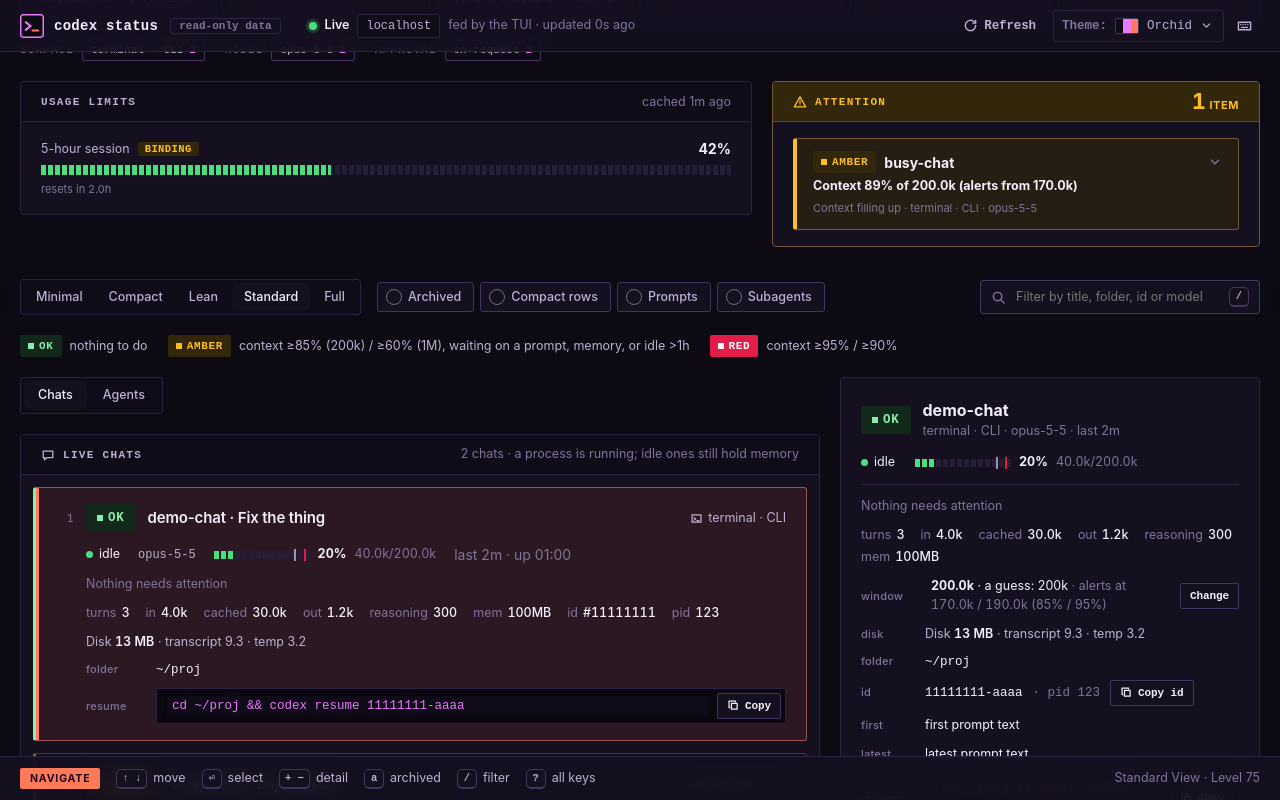
Test case: context window control (per chat) › picking a size re-suggests both rows and shows the summary, zone bar and command live
(page scrolled)
Click the button with aria-label "Change the context window" at [1210, 596], box left=1180, top=583, right=1239, bottom=609
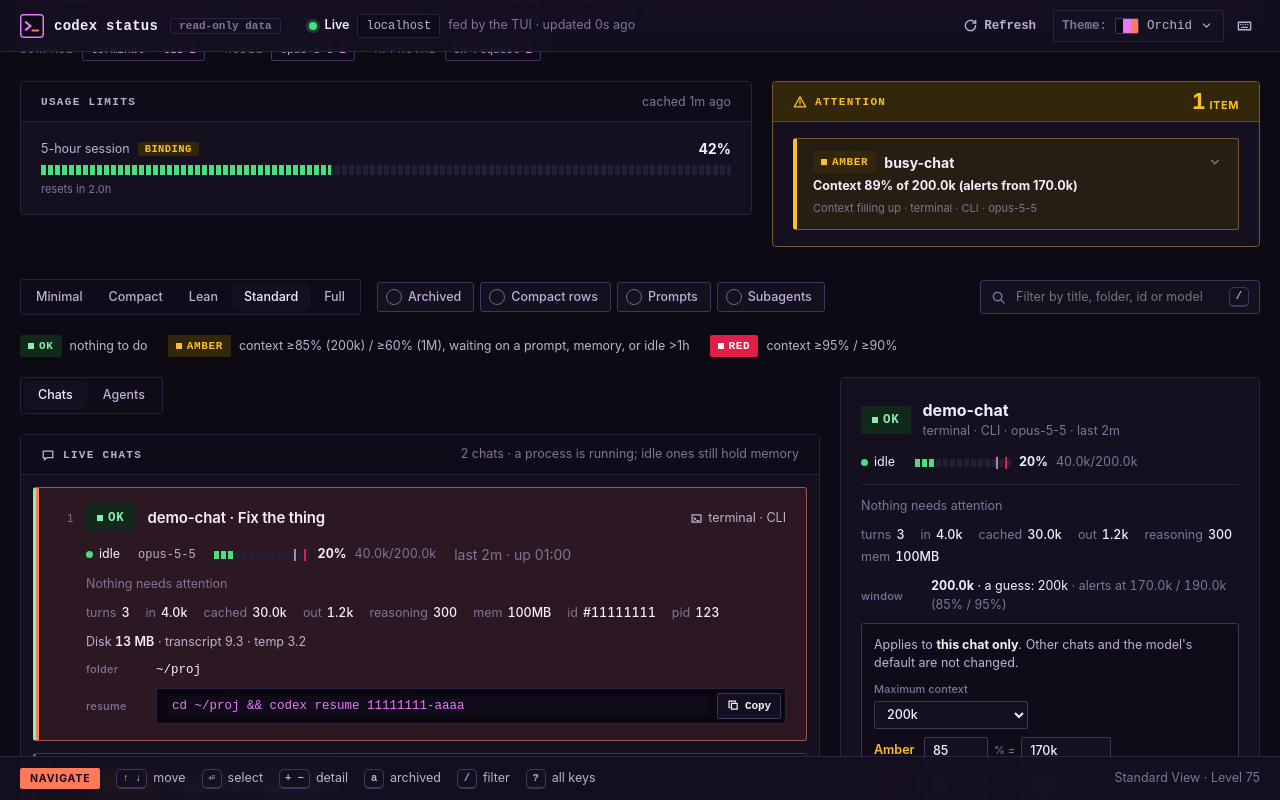
Select "600k" in the dropdown labelled "Maximum context" at [951, 715], box left=874, top=701, right=1028, bottom=729
(page scrolled)
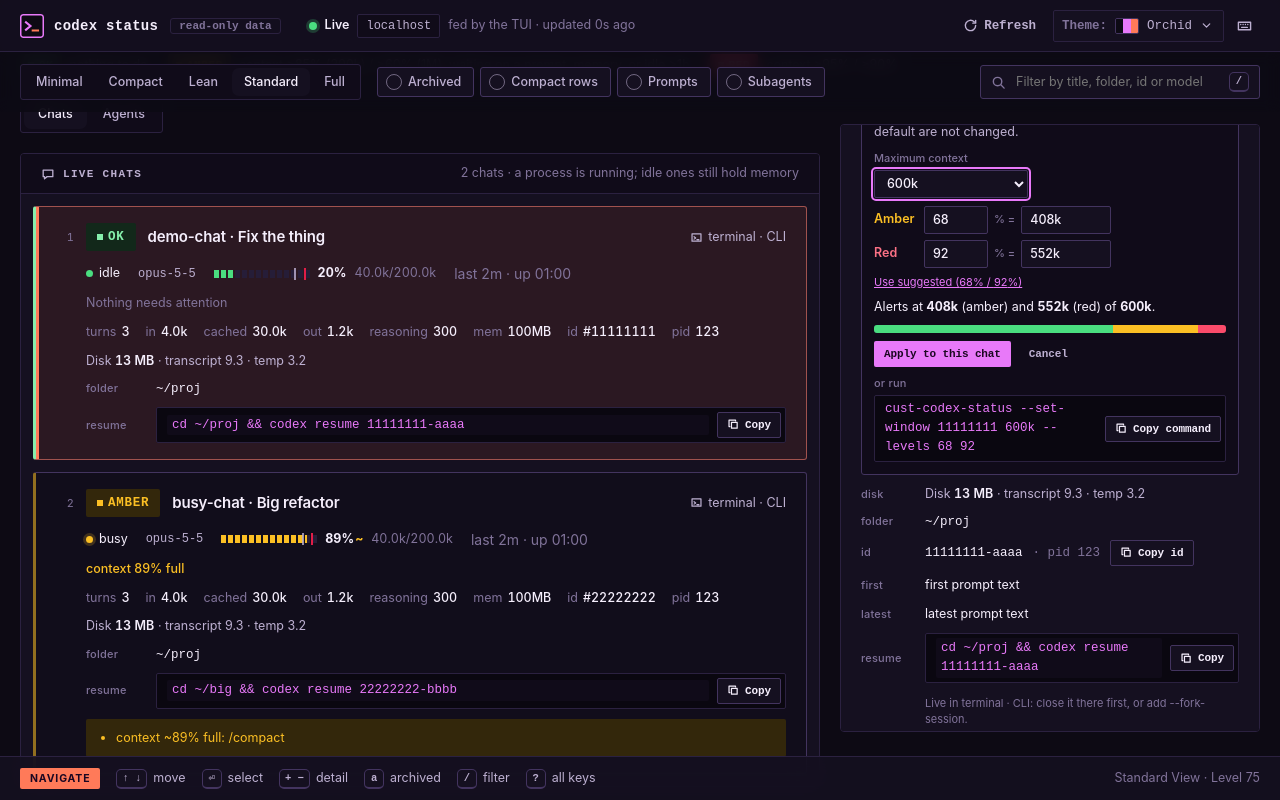
Now the number field named "Amber percent" holds "68", box left=924, top=205, right=988, bottom=233
Now the number field named "Red percent" holds "92", box left=924, top=239, right=988, bottom=267
Now the field named "Amber tokens" holds "408k", box left=1021, top=205, right=1111, bottom=233
